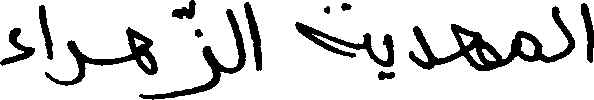ء: (0, 26, 35, 67)
ا: (244, 0, 261, 72), (577, 1, 592, 64), (38, 2, 51, 58)
ة: (295, 1, 372, 60)
د: (406, 24, 433, 71)
ر: (59, 38, 82, 87)
ز: (173, 23, 220, 98)
ل: (225, 0, 246, 75), (550, 4, 573, 63)
م: (512, 29, 541, 63)
ه: (448, 21, 501, 71), (123, 24, 158, 78)
ي: (383, 31, 392, 80)
